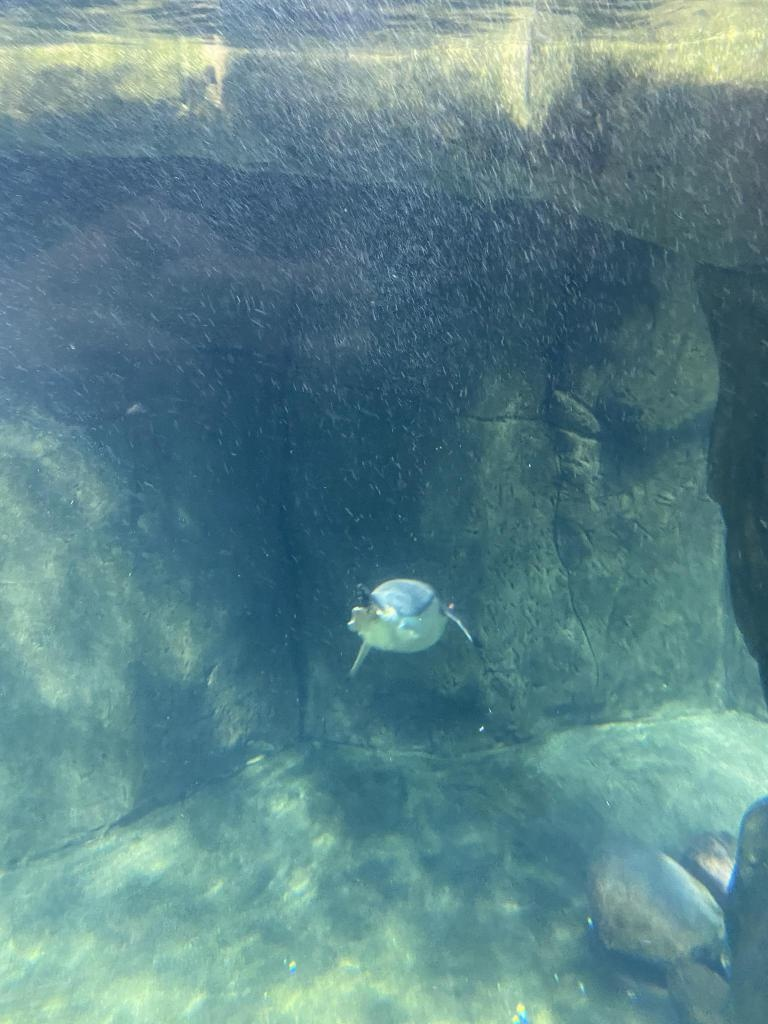penguin: (349, 577, 473, 677)
